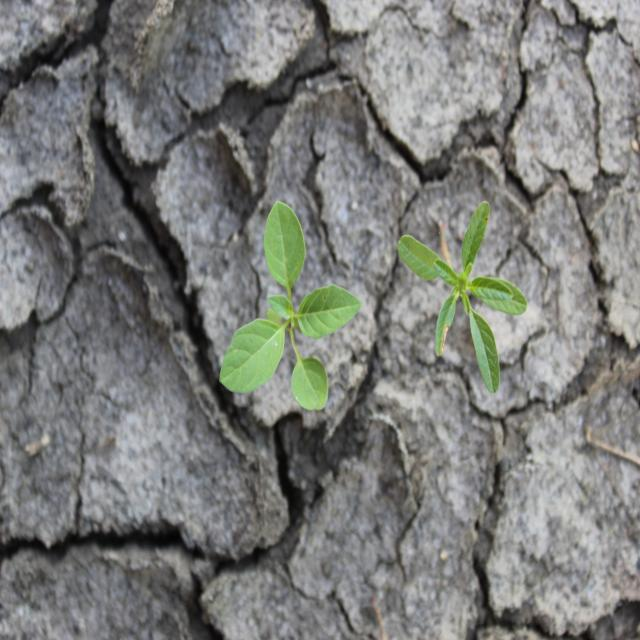CutleafGroundcherry: (218, 198, 363, 414)
Waterhemp: (396, 199, 530, 398)
